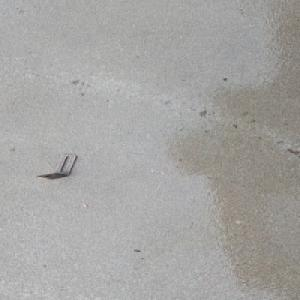MetalPart: (35, 153, 78, 179)
